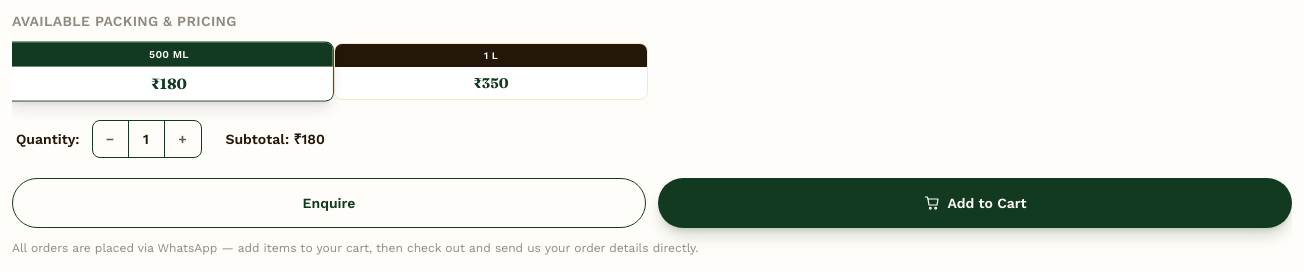
Scenario: AddToCartPanel › adds the selected size and quantity to the cart and shows confirmation
Click the text "1 L" at (491, 56), box [335,44,647,67]
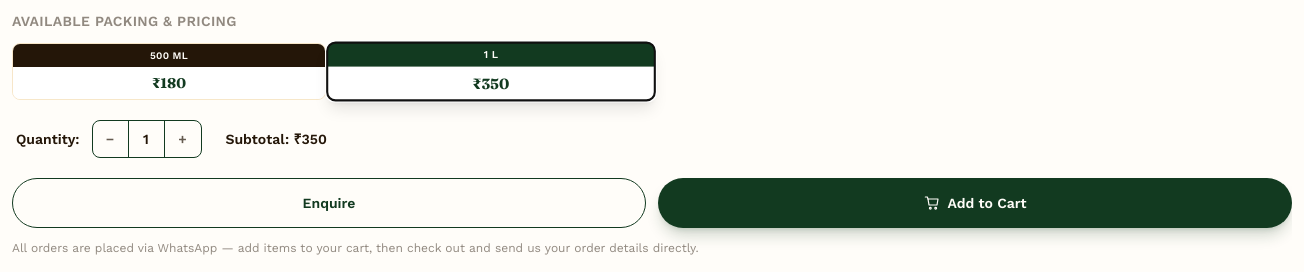
Click the button named "Increase quantity" at (182, 139), box [164,121,200,157]
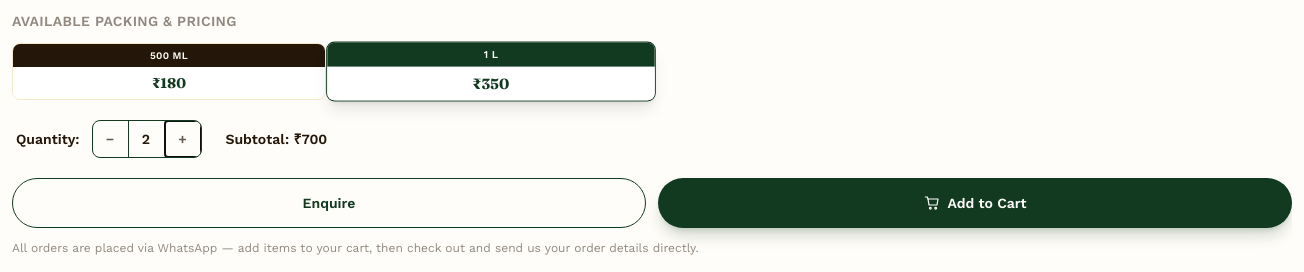
Click the button "Add to Cart" at (975, 203), box [658,178,1292,228]
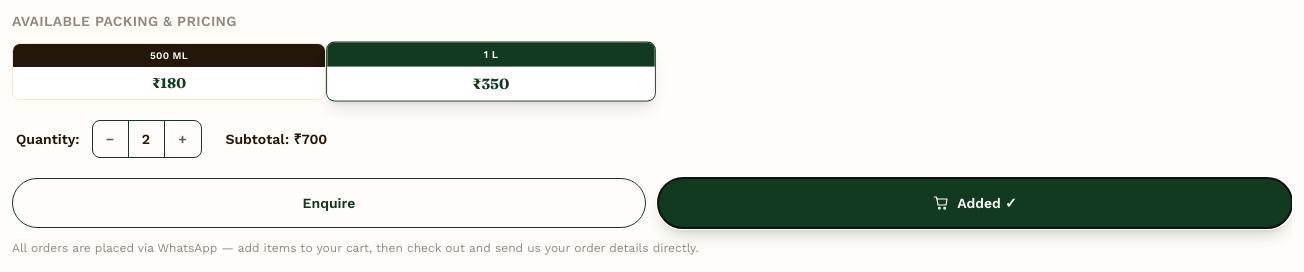
Expected: the button "Added ✓" is shown, [658,178,1292,228]
